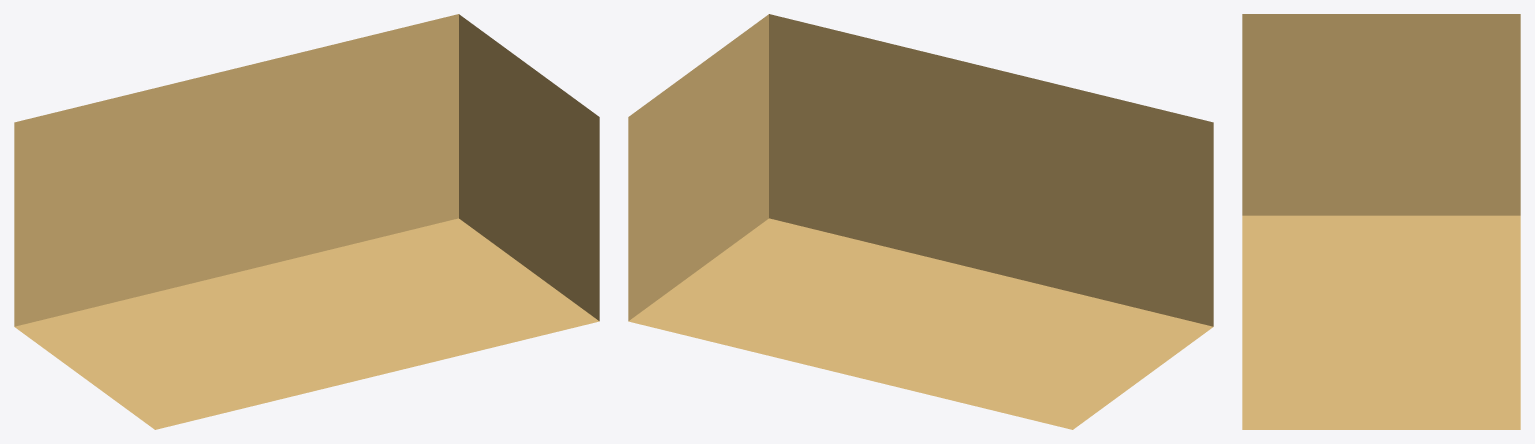
The model's file is tables-cyber-neon-022.glb.
The picture shows the model from 3 angles, left to right: view 1: azimuth 30°, elevation 25°; view 2: azimuth 150°, elevation 25°; view 3: azimuth 270°, elevation 25°; orthographic projection.
Parts seen in each view (by area): view 1: Cyber Neon Tables; view 2: Cyber Neon Tables; view 3: Cyber Neon Tables.
Part boxes in pixels (box(x1,y1,x2,y2)): Cyber Neon Tables: box(14, 14, 599, 429); Cyber Neon Tables: box(628, 14, 1213, 429); Cyber Neon Tables: box(1242, 14, 1520, 429).
Bounding box in the file's own units: 2.55 × 1.12 × 1.4.
